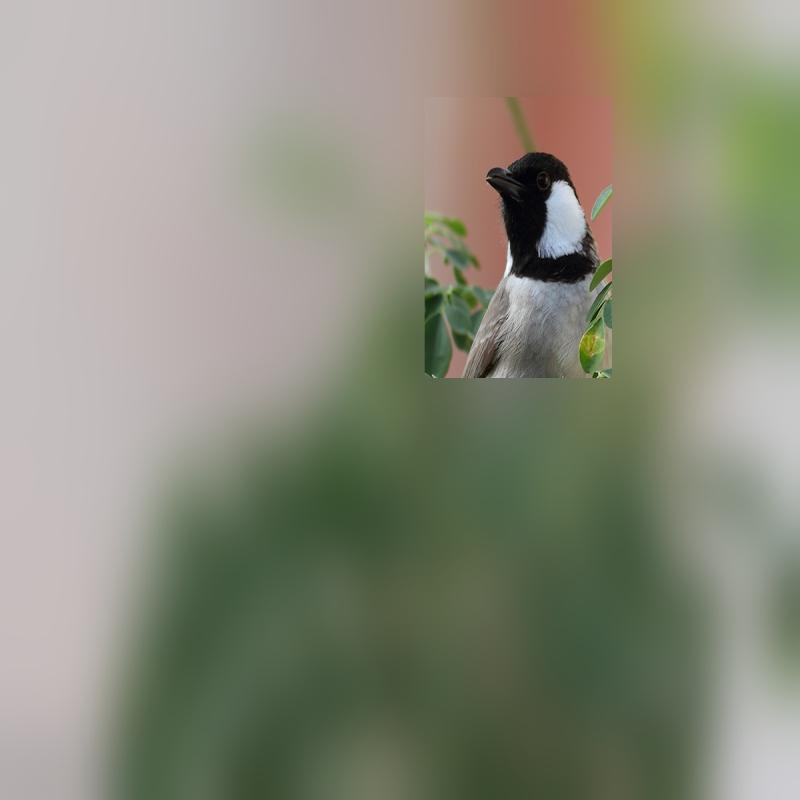white-eared bulbul: (437, 128, 608, 386)
